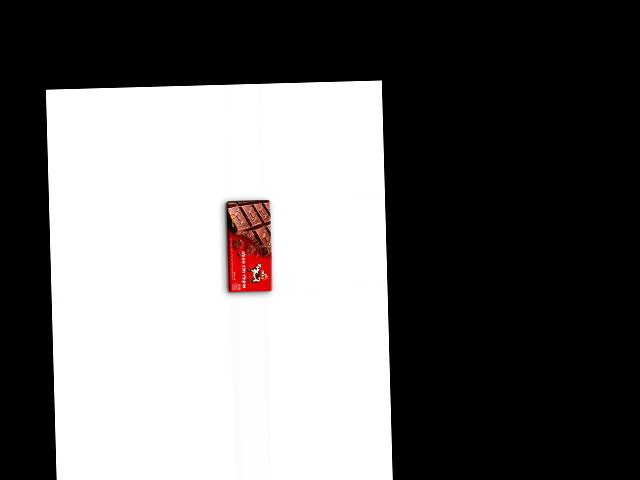chocolate: (222, 198, 274, 294)
